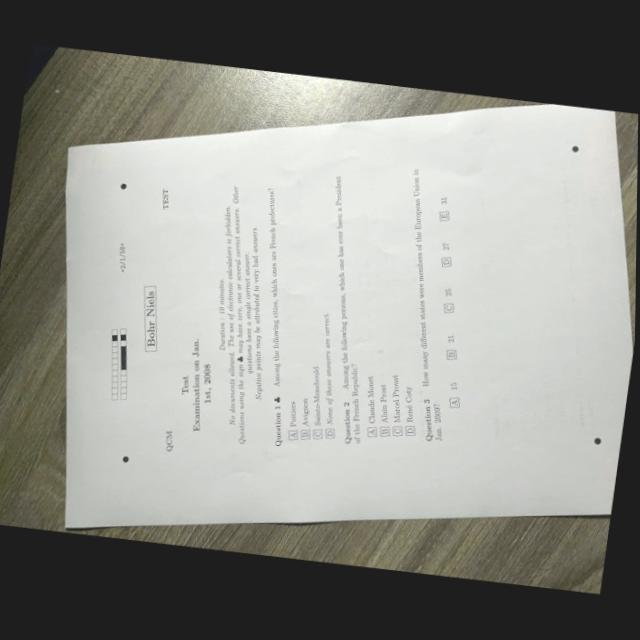Markers: (570, 144, 579, 152), (593, 436, 602, 444), (121, 454, 128, 462), (120, 182, 127, 189)
